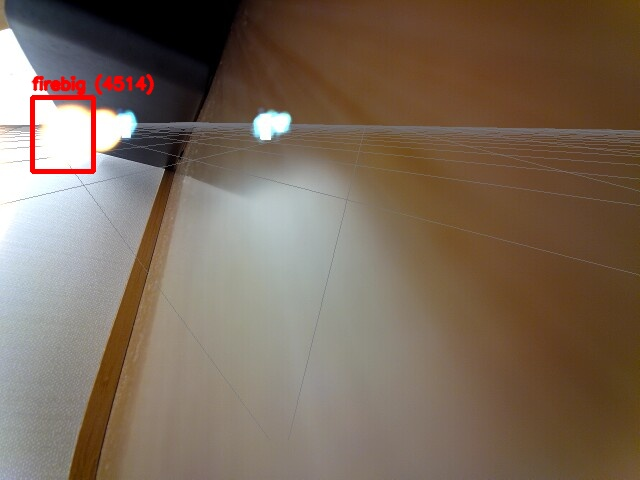firebig: (32, 97, 93, 171)
